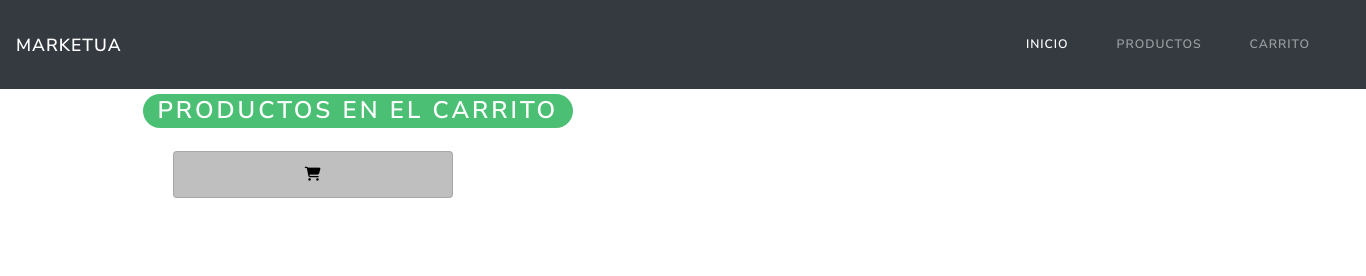
Test case: Carrito › Button carrito click
Click the link with id "carritoButton" at [313, 175], box x1=173 y1=151 x2=453 y2=198
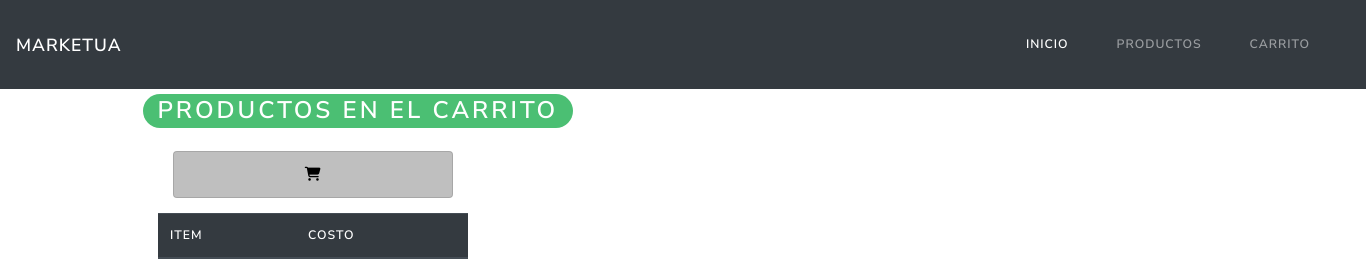
Expected: the table with class "table" is shown, x1=158 y1=213 x2=468 y2=258
